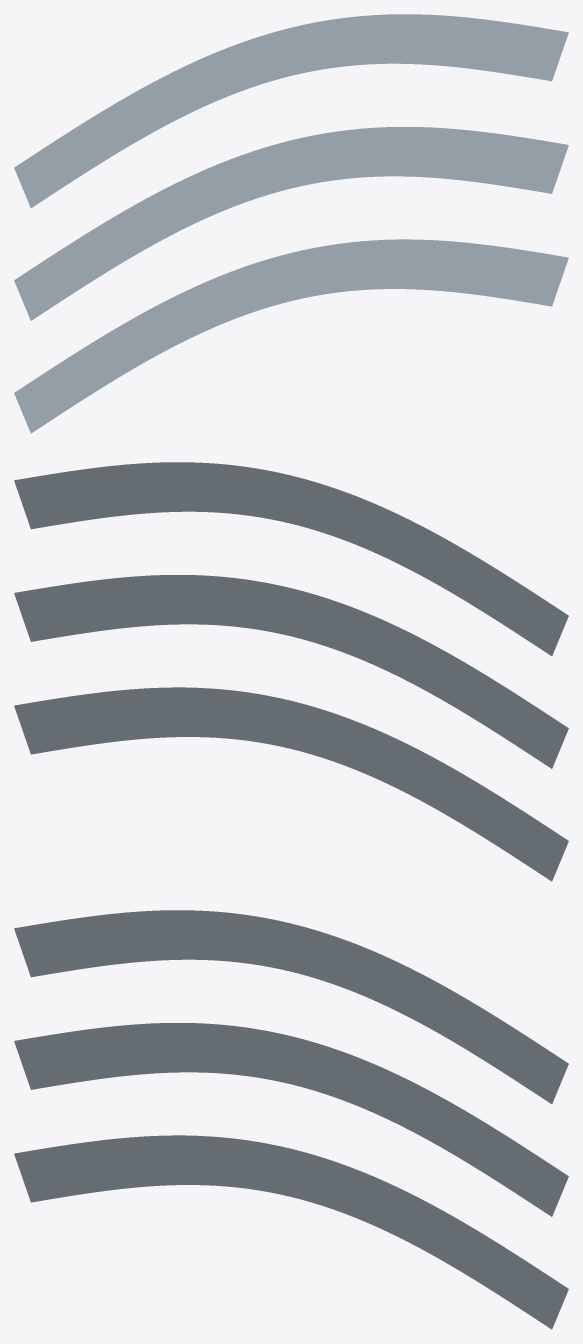
Rendered from 2069_ClawSlashes_Anemo_OneThreeClawSweep.fbx.
3 renders of one model, top to bottom at view 1: azimuth 30°, elevation 25°; view 2: azimuth 150°, elevation 25°; view 3: azimuth 330°, elevation 25°, orthographic.
Visible parts, largest first — view 1: PART_ThreeClaws_Anemo_2, PART_ThreeClaws_Anemo_1, PART_ThreeClaws_Anemo_0, PART_ClawBrightEdge_Anemo_1, PART_ClawBrightEdge_Anemo_2, PART_ClawBrightEdge_Anemo_0; view 2: PART_ThreeClaws_Anemo_0, PART_ThreeClaws_Anemo_2, PART_ThreeClaws_Anemo_1, PART_ClawBrightEdge_Anemo_2, PART_ClawBrightEdge_Anemo_1, PART_ClawBrightEdge_Anemo_0; view 3: PART_ThreeClaws_Anemo_2, PART_ThreeClaws_Anemo_1, PART_ThreeClaws_Anemo_0, PART_ClawBrightEdge_Anemo_2, PART_ClawBrightEdge_Anemo_1, PART_ClawBrightEdge_Anemo_0.
Boxes of the visible parts, x1,y1,x2,y2 form: PART_ThreeClaws_Anemo_2: (14, 14, 568, 207); PART_ThreeClaws_Anemo_1: (14, 127, 568, 320); PART_ThreeClaws_Anemo_0: (14, 239, 568, 433); PART_ClawBrightEdge_Anemo_1: (21, 146, 561, 304); PART_ClawBrightEdge_Anemo_2: (21, 34, 561, 191); PART_ClawBrightEdge_Anemo_0: (21, 259, 561, 417); PART_ThreeClaws_Anemo_0: (14, 687, 568, 881); PART_ThreeClaws_Anemo_2: (14, 462, 568, 655); PART_ThreeClaws_Anemo_1: (14, 575, 568, 768); PART_ClawBrightEdge_Anemo_2: (21, 482, 561, 639); PART_ClawBrightEdge_Anemo_1: (21, 594, 561, 750); PART_ClawBrightEdge_Anemo_0: (21, 707, 561, 864); PART_ThreeClaws_Anemo_2: (14, 910, 568, 1103); PART_ThreeClaws_Anemo_1: (14, 1023, 568, 1216); PART_ThreeClaws_Anemo_0: (14, 1135, 568, 1329); PART_ClawBrightEdge_Anemo_2: (21, 930, 561, 1085); PART_ClawBrightEdge_Anemo_1: (21, 1042, 561, 1200); PART_ClawBrightEdge_Anemo_0: (21, 1155, 561, 1313).
Size of the model in its own units: 181 by 106 by 1.73e-05.
